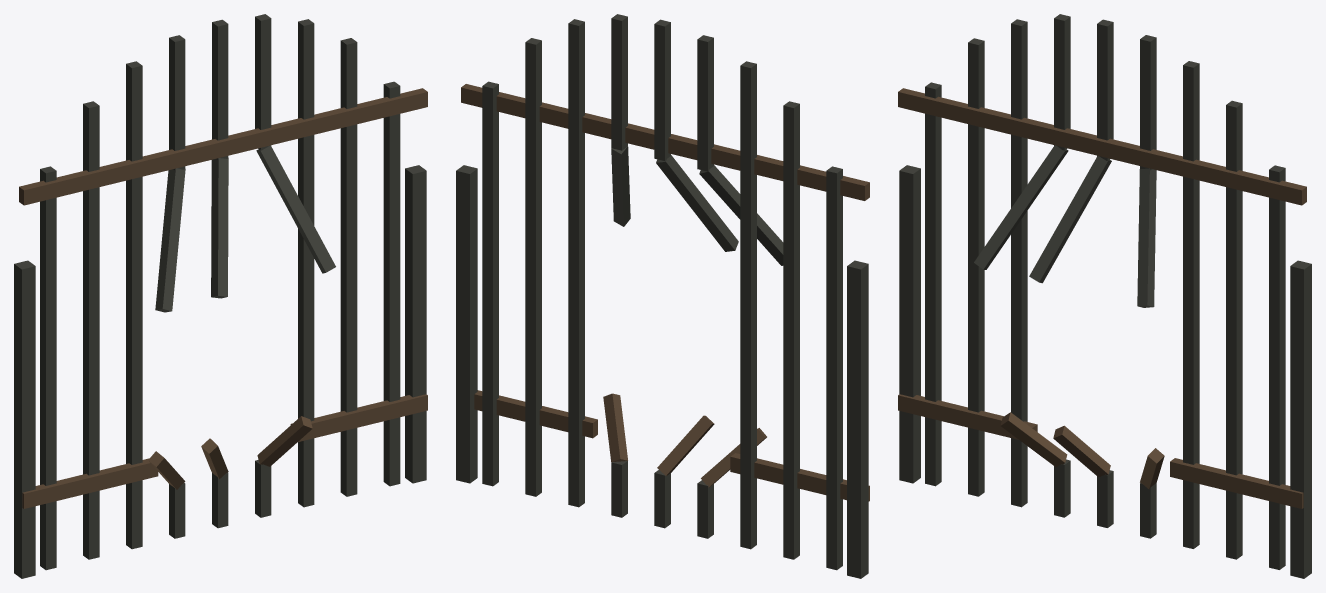
The model's file is forced_cell_grille.glb.
3 views of the same model, side by side, from view 1: azimuth 30°, elevation 25°; view 2: azimuth 150°, elevation 25°; view 3: azimuth 330°, elevation 25° (orthographic).
Visible parts, largest first — view 1: Forced cell grille; view 2: Forced cell grille; view 3: Forced cell grille.
Boxes of the visible parts, x1,y1,x2,y2 form: Forced cell grille: [14, 14, 427, 578]; Forced cell grille: [456, 14, 869, 578]; Forced cell grille: [898, 14, 1311, 578].
Size of the model in its own units: 1.56 by 1.86 by 0.2736.
